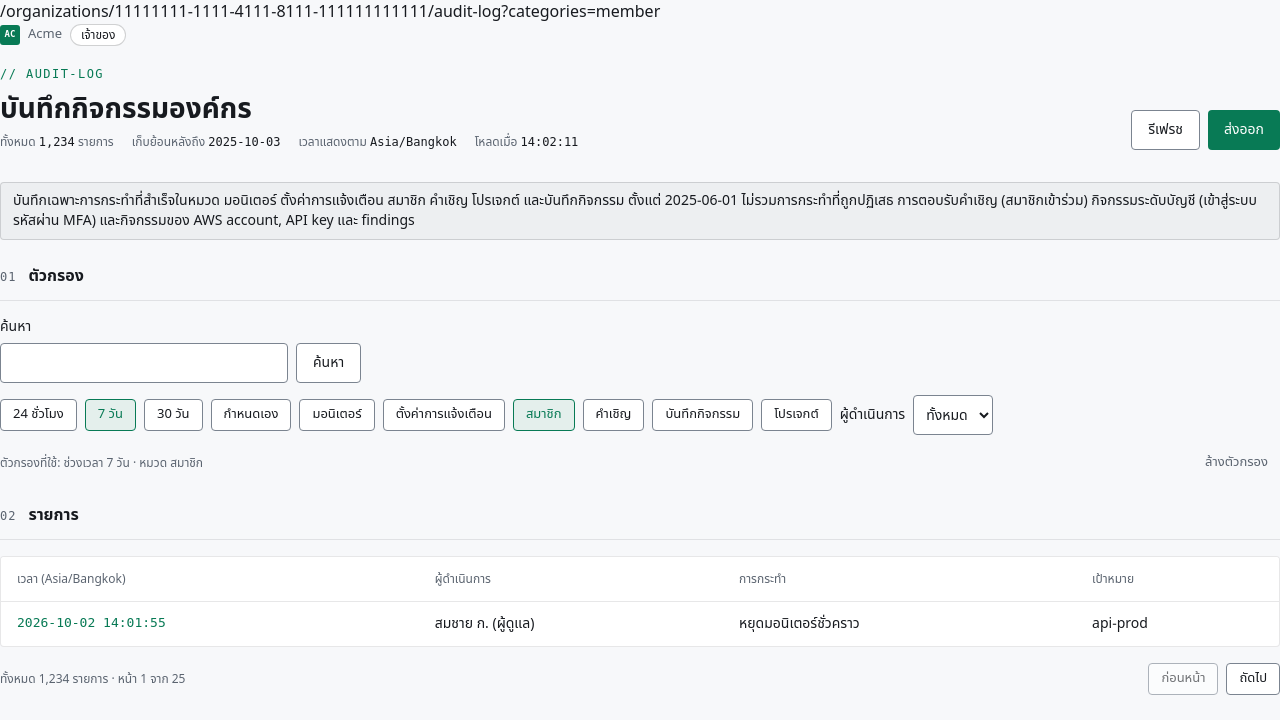
Test case: export dialog › starts on CSV and shows the snapshot, scope and actual total
Click the button with test id "audit-export-open".
click(1244, 130)  # box [1208,110,1279,150]
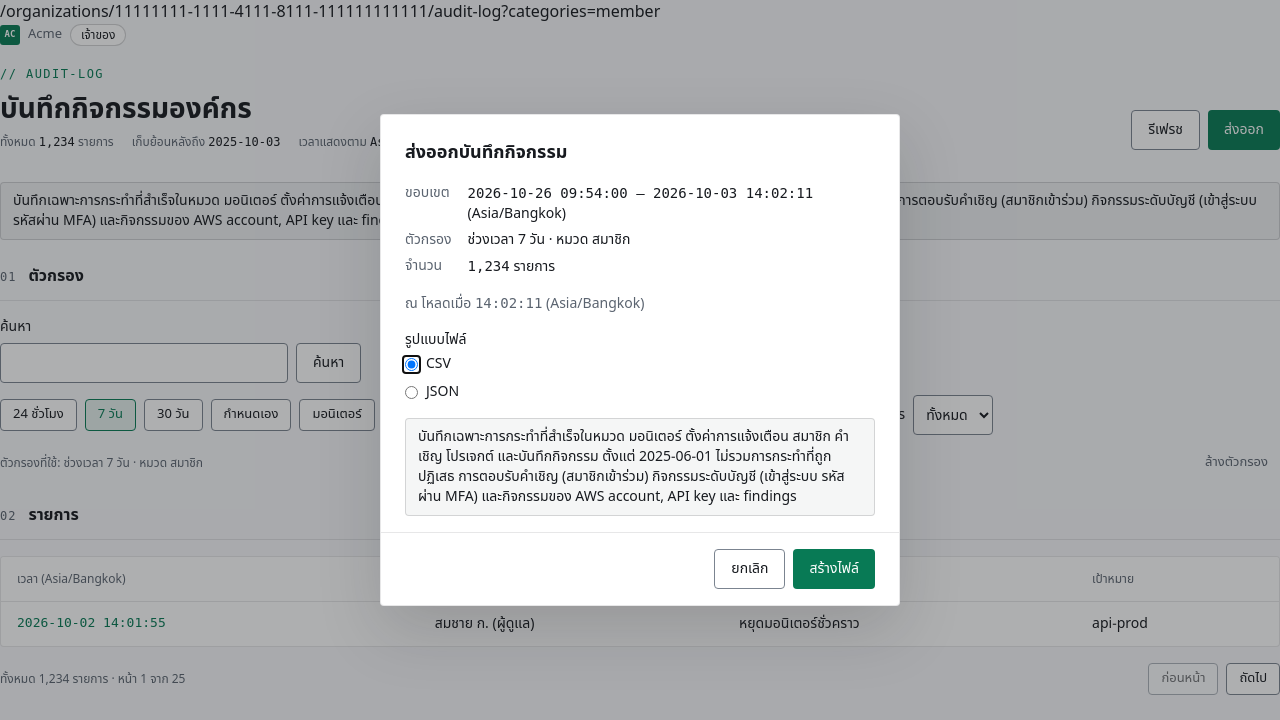
Expected: the radio button with test id "audit-export-dialog-format-csv" is checked, [405,358,418,370]
Expected: the element with test id "audit-export-dialog-formats" is shown, [405,329,466,402]
Expected: the element with test id "audit-export-dialog-snapshot" shows "14:02:11", [475,295,542,311]
